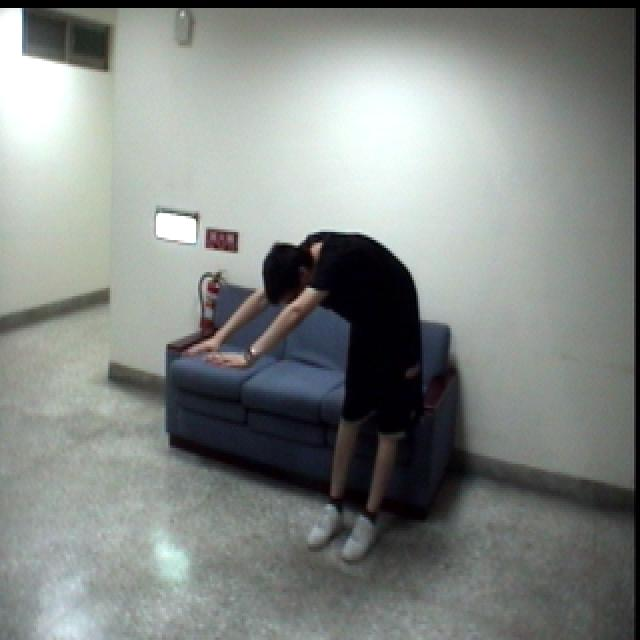bend: (184, 226, 437, 576)
